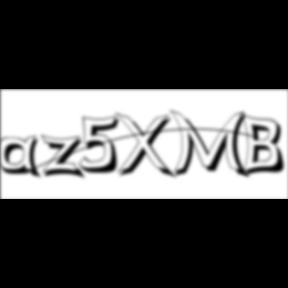5: (79, 114, 126, 176)
M: (170, 108, 254, 181)
X: (115, 112, 179, 182)
a: (0, 135, 46, 182)
z: (40, 134, 90, 182)
